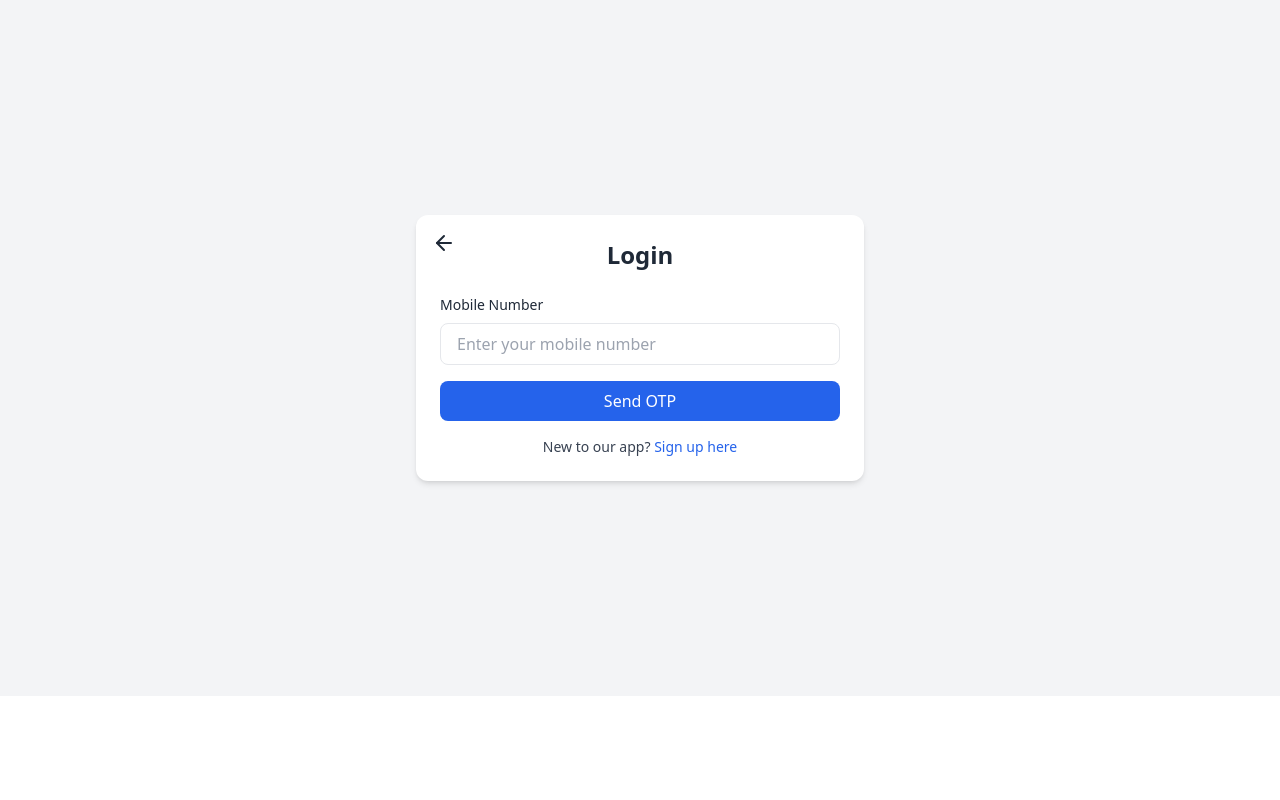
Test: Login Page › shows error if mobile number is invalid
Type "123" into the field with placeholder "Enter your mobile number".
click(640, 344); type("123")  # box [440,323,840,365]
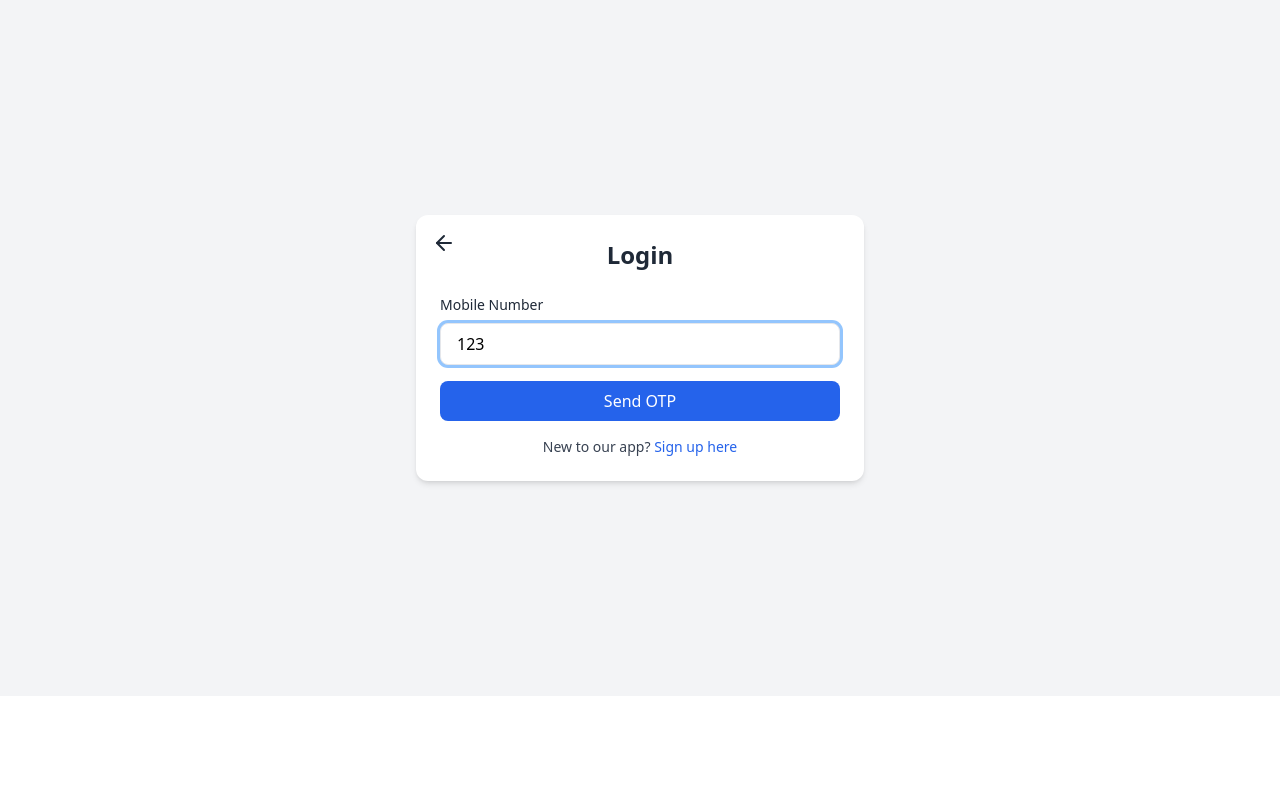
Click the button "Send OTP".
click(640, 401)  # box [440,381,840,421]
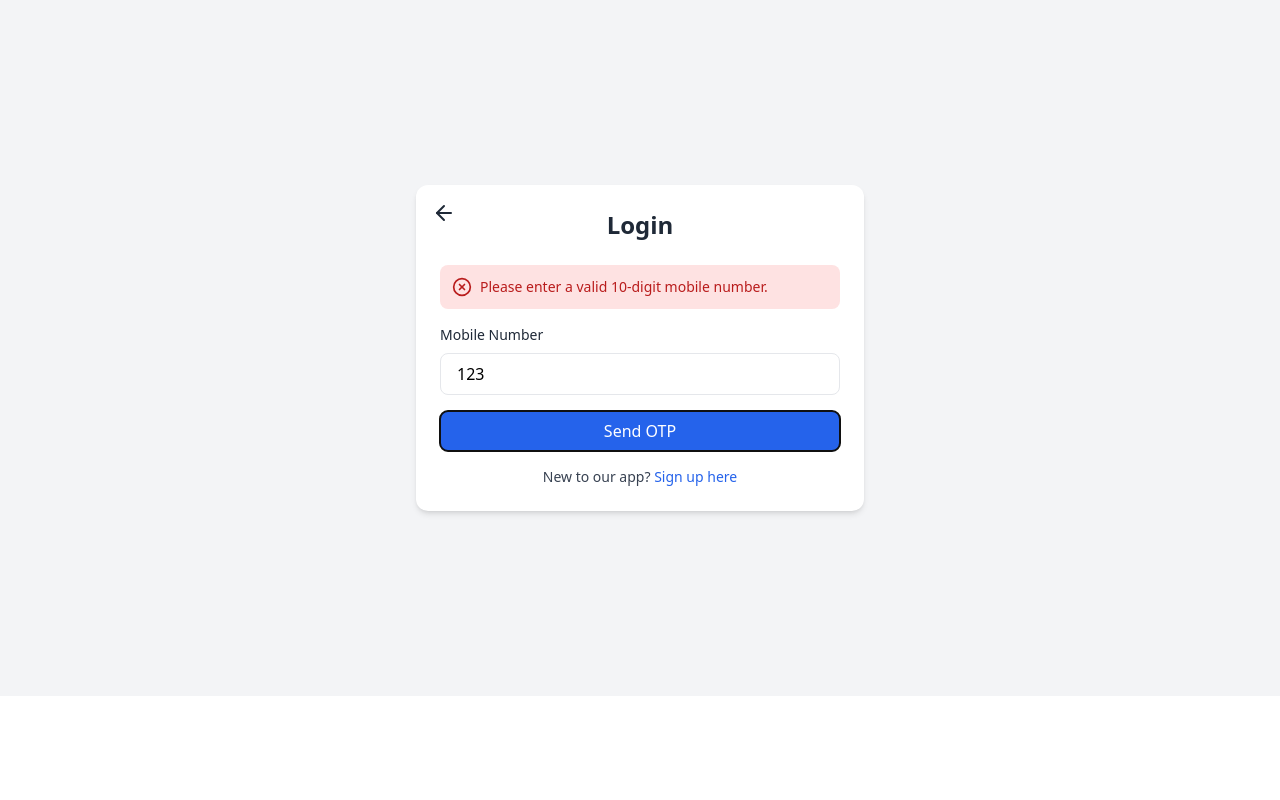
Result: the text "Please enter a valid 10-digit mobile number." is shown at [480,277,768,297]
